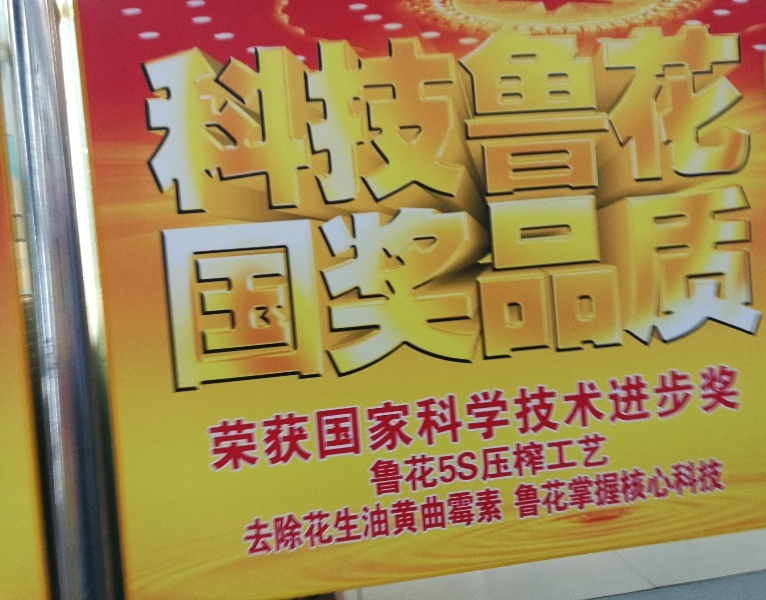text: (161, 183, 176, 398), (177, 183, 192, 398), (193, 183, 208, 398), (209, 183, 224, 398), (225, 183, 240, 398), (241, 183, 256, 398), (257, 183, 272, 398), (273, 183, 288, 398), (289, 183, 304, 398), (305, 183, 320, 398), (321, 183, 336, 398), (337, 183, 352, 398), (353, 183, 368, 398), (369, 183, 384, 398), (385, 183, 400, 398), (401, 183, 416, 398), (417, 183, 432, 398), (433, 183, 448, 398), (449, 183, 464, 398), (465, 183, 480, 398), (481, 183, 496, 398), (497, 183, 512, 398), (513, 183, 528, 398), (529, 183, 544, 398), (545, 183, 560, 398), (561, 183, 576, 398), (577, 183, 592, 398), (593, 183, 608, 398), (609, 183, 624, 398), (625, 183, 640, 398), (641, 183, 656, 398), (657, 183, 672, 398), (673, 183, 688, 398), (689, 183, 704, 398), (705, 183, 720, 398), (721, 183, 736, 398), (737, 183, 752, 398), (145, 19, 160, 220), (161, 19, 176, 220), (177, 19, 192, 220), (193, 19, 208, 220), (209, 19, 224, 220), (225, 19, 240, 220), (241, 19, 256, 220), (257, 19, 272, 220), (273, 19, 288, 220), (289, 19, 304, 220), (305, 19, 320, 220), (321, 19, 336, 220), (337, 19, 352, 220), (353, 19, 368, 220), (369, 19, 384, 220), (385, 19, 400, 220), (401, 19, 416, 220), (417, 19, 432, 220), (433, 19, 448, 220), (449, 19, 464, 220), (465, 19, 480, 220), (481, 19, 496, 220), (497, 19, 512, 220), (513, 19, 528, 220), (529, 19, 544, 220), (545, 19, 560, 220), (561, 19, 576, 220), (577, 19, 592, 220), (593, 19, 608, 220), (609, 19, 624, 220), (625, 19, 640, 220), (641, 19, 656, 220), (657, 19, 672, 220), (673, 19, 688, 220), (689, 19, 704, 220), (705, 19, 720, 220), (721, 19, 736, 220), (737, 19, 752, 220), (753, 183, 765, 398), (209, 359, 224, 472), (225, 359, 240, 472), (241, 359, 256, 472), (257, 359, 272, 472), (273, 359, 288, 472), (289, 359, 304, 472), (305, 359, 320, 472), (321, 359, 336, 472), (337, 359, 352, 472), (353, 359, 368, 472), (369, 359, 384, 472), (385, 359, 400, 472), (401, 359, 416, 472), (417, 359, 432, 472), (433, 359, 448, 472), (449, 359, 464, 472), (465, 359, 480, 472), (481, 359, 496, 472), (497, 359, 512, 472), (513, 359, 528, 472), (529, 359, 544, 472), (545, 359, 560, 472), (561, 359, 576, 472), (577, 359, 592, 472), (593, 359, 608, 472), (609, 359, 624, 472), (625, 359, 640, 472), (641, 359, 656, 472), (657, 359, 672, 472), (673, 359, 688, 472), (689, 359, 704, 472), (705, 359, 720, 472), (721, 359, 736, 472), (241, 487, 256, 561), (257, 487, 272, 561), (273, 487, 288, 561), (289, 487, 304, 561), (305, 487, 320, 561), (321, 487, 336, 561), (337, 487, 352, 561), (353, 487, 368, 561), (369, 487, 384, 561), (385, 487, 400, 561), (401, 487, 416, 561), (417, 487, 432, 561), (433, 487, 448, 561), (449, 487, 464, 561), (465, 487, 480, 561), (481, 487, 496, 561), (139, 19, 144, 220), (753, 19, 758, 220), (385, 431, 400, 498), (401, 431, 416, 498), (417, 431, 432, 498), (433, 431, 448, 498), (449, 431, 464, 498), (465, 431, 480, 498), (481, 431, 496, 498), (497, 431, 512, 498), (513, 431, 528, 498), (529, 431, 544, 498), (545, 431, 560, 498), (561, 431, 576, 498), (577, 431, 592, 498), (593, 431, 608, 498), (370, 431, 384, 498), (513, 457, 528, 518), (529, 457, 544, 518), (545, 457, 560, 518), (561, 457, 576, 518), (577, 457, 592, 518), (593, 457, 608, 518), (609, 457, 624, 518), (625, 457, 640, 518), (641, 457, 656, 518), (657, 457, 672, 518), (673, 457, 688, 518), (689, 457, 704, 518), (705, 457, 720, 518), (737, 359, 745, 472), (497, 487, 505, 561), (721, 457, 728, 518), (159, 183, 160, 398), (609, 431, 612, 498)
